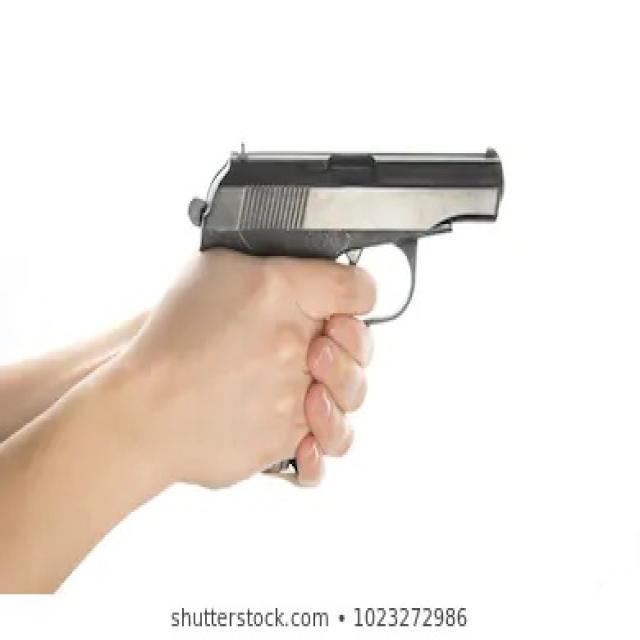gun-knife-thesis - v11 Yolov5 augmented: (188, 135, 508, 482)
